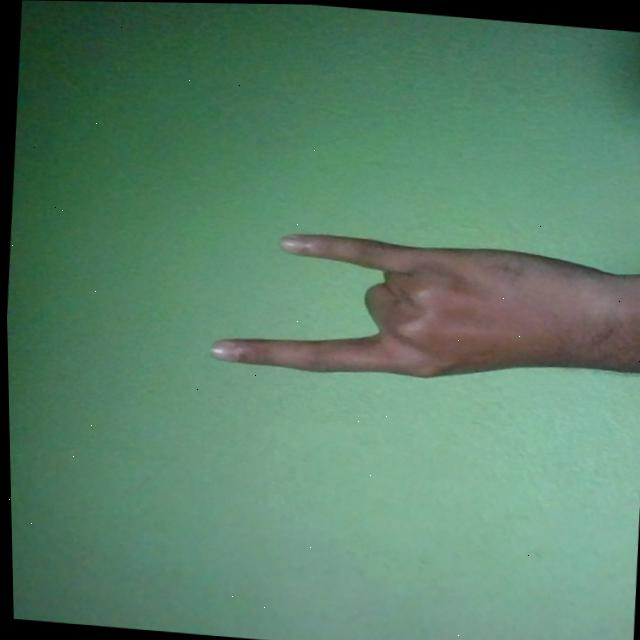Rock On: (205, 222, 640, 397)
